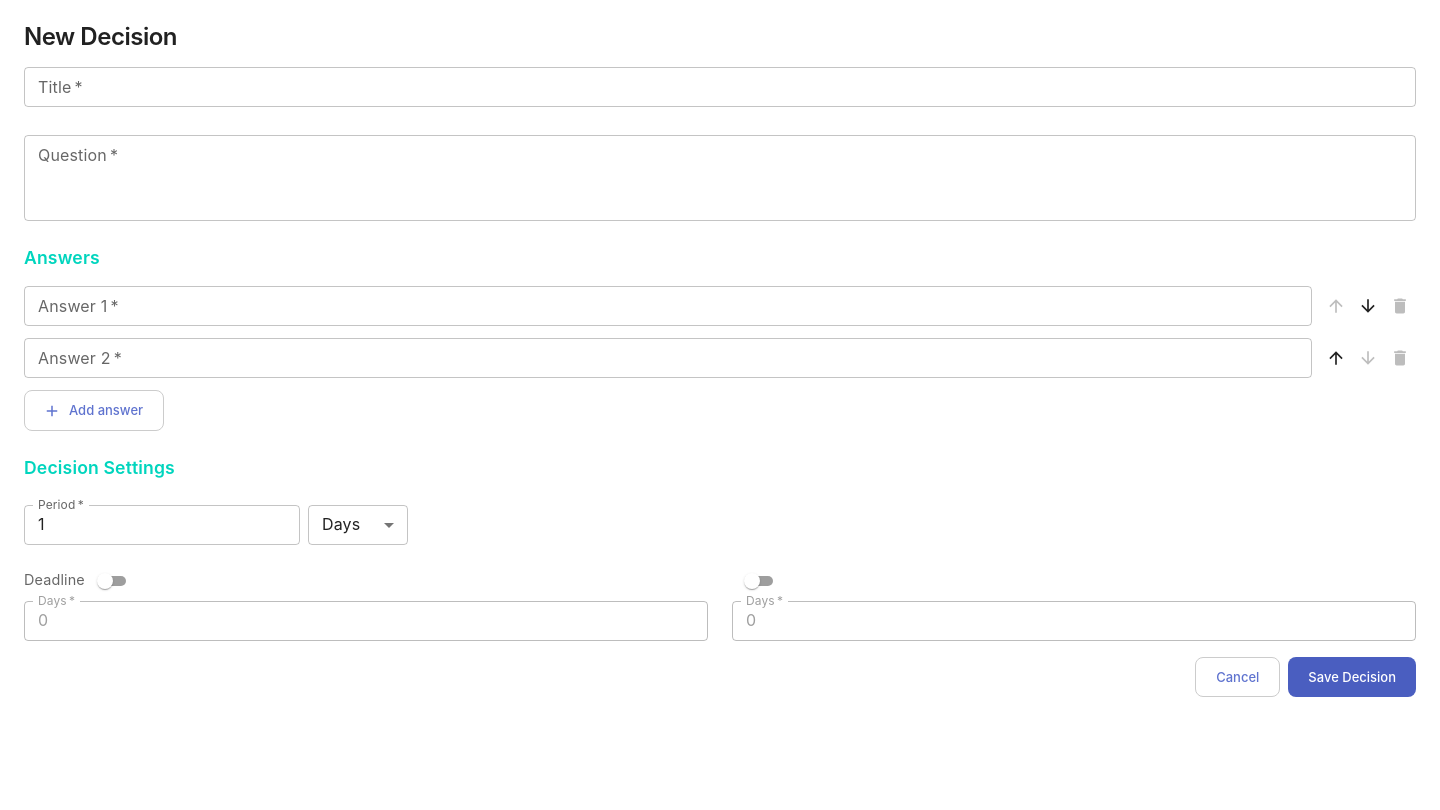
Scenario: DecisionForm › refuses to save a decision with an empty answer
Type "Pick" into the field labelled "Title *" at (720, 87), box x1=24 y1=67 x2=1416 y2=107
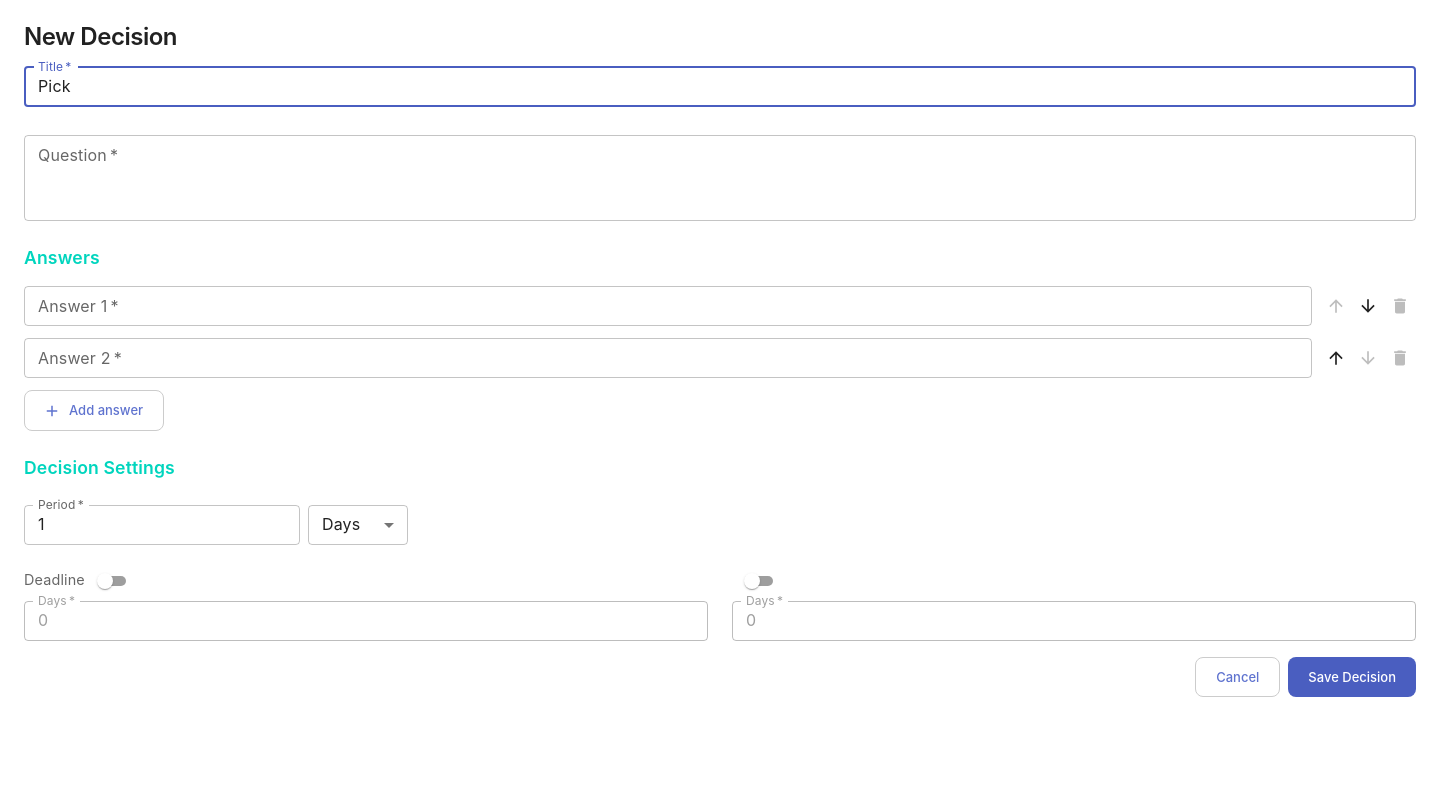
Type "Where next?" into the text box labelled "Question *" at (720, 178), box x1=38 y1=143 x2=1402 y2=212
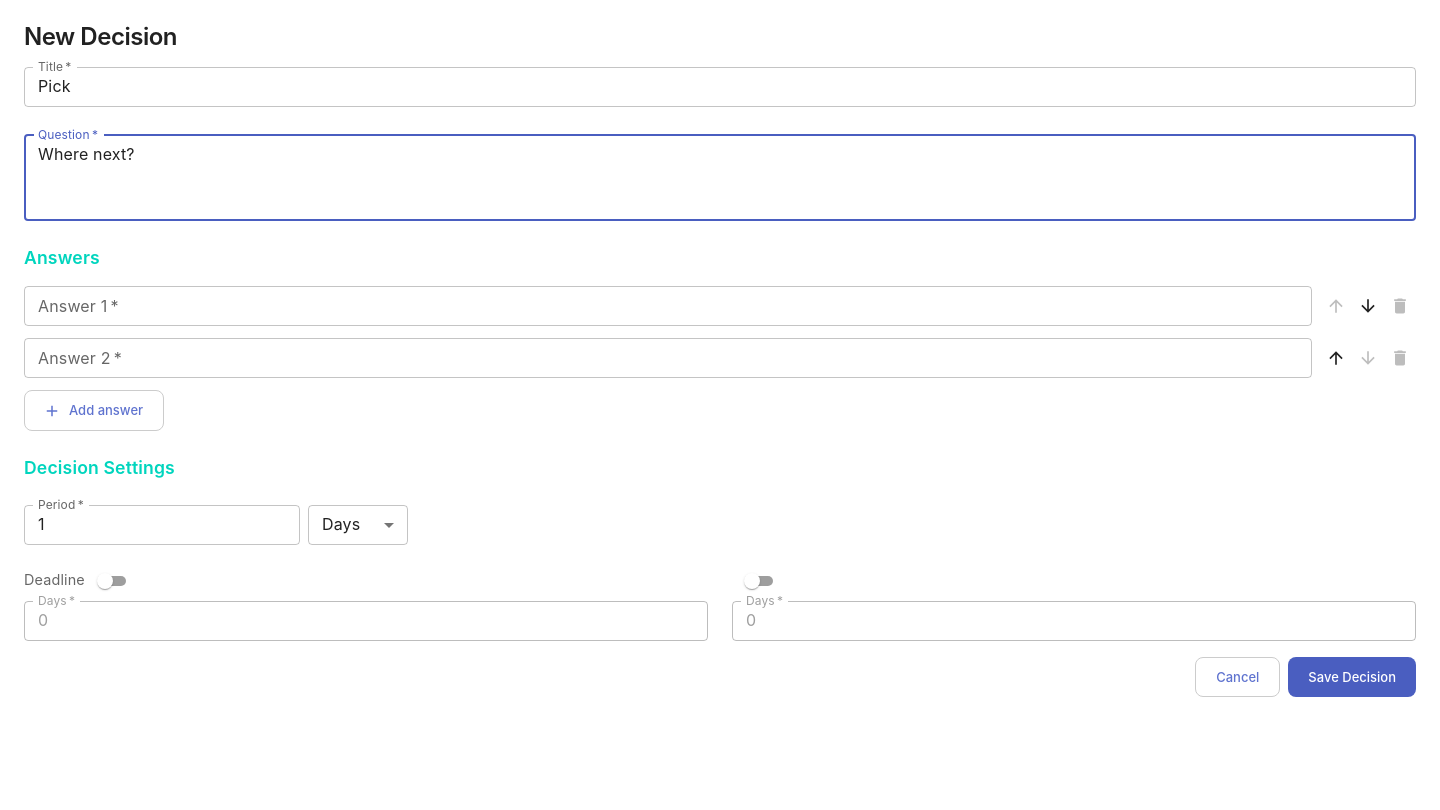
Type "Basics" into the field labelled "Answer 1 *" at (668, 306), box x1=24 y1=286 x2=1312 y2=326
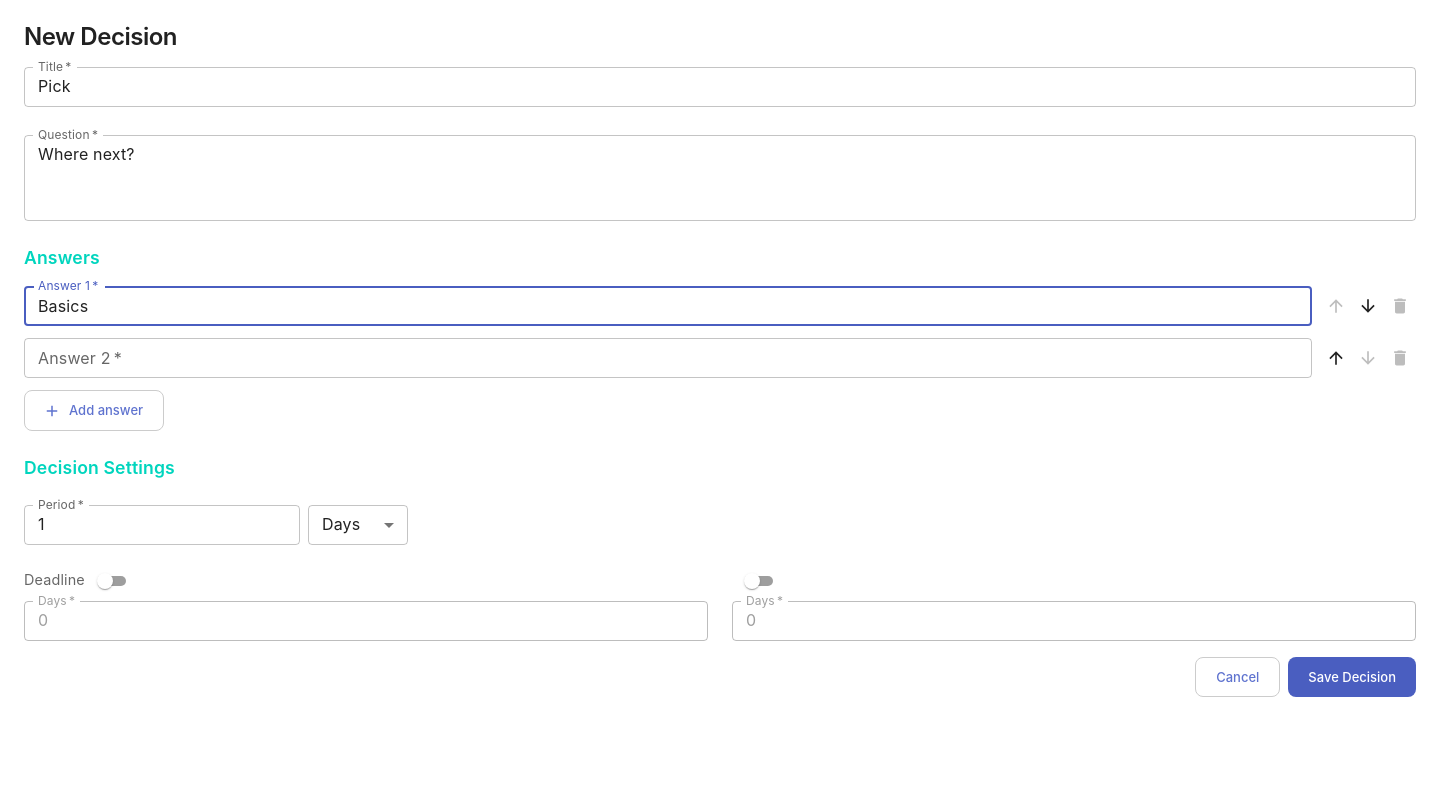
Click the button "Save Decision" at (1352, 677), box x1=1288 y1=657 x2=1416 y2=697
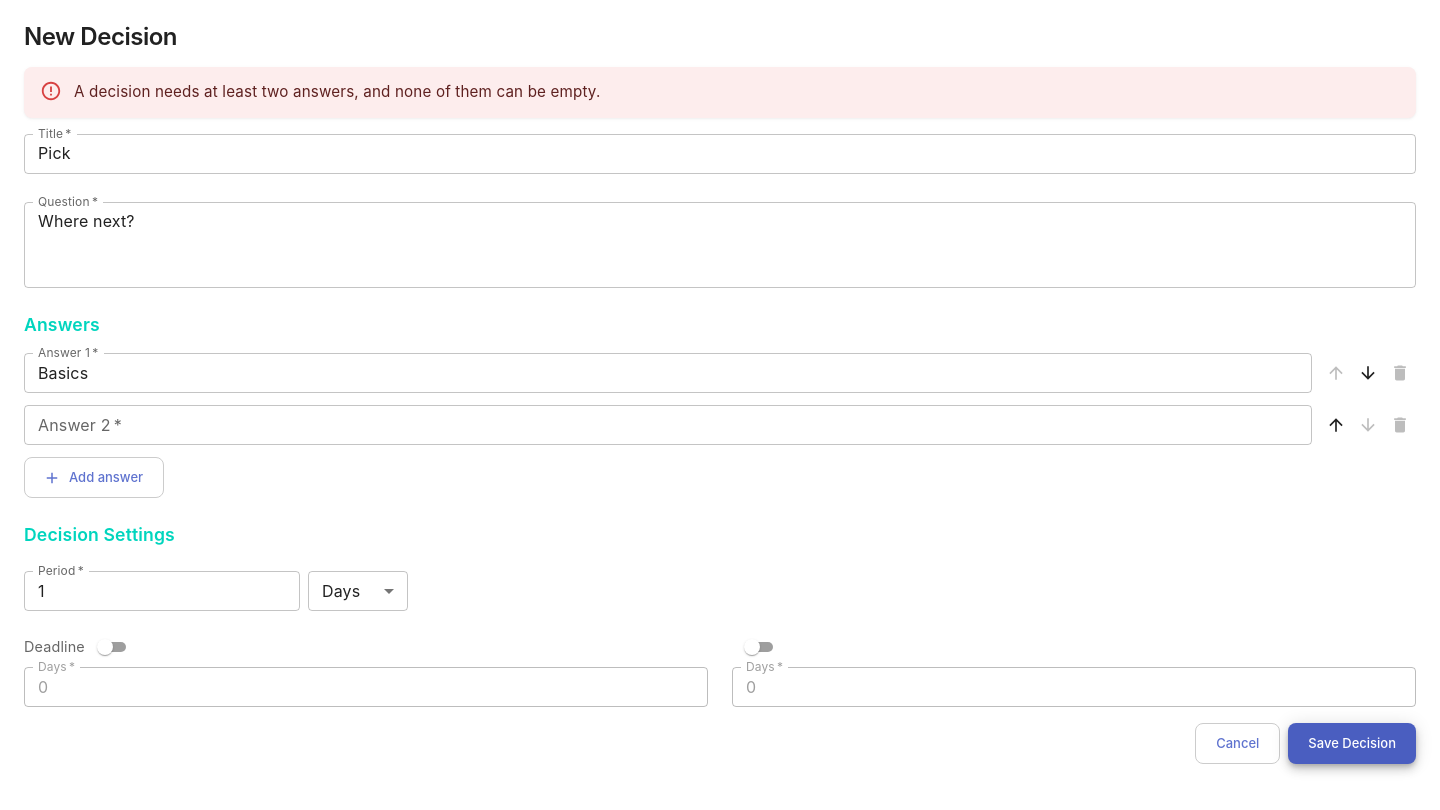
Expected: the text "A decision needs at least two answers, and none of them can be empty." is shown, x1=74 y1=82 x2=600 y2=101
